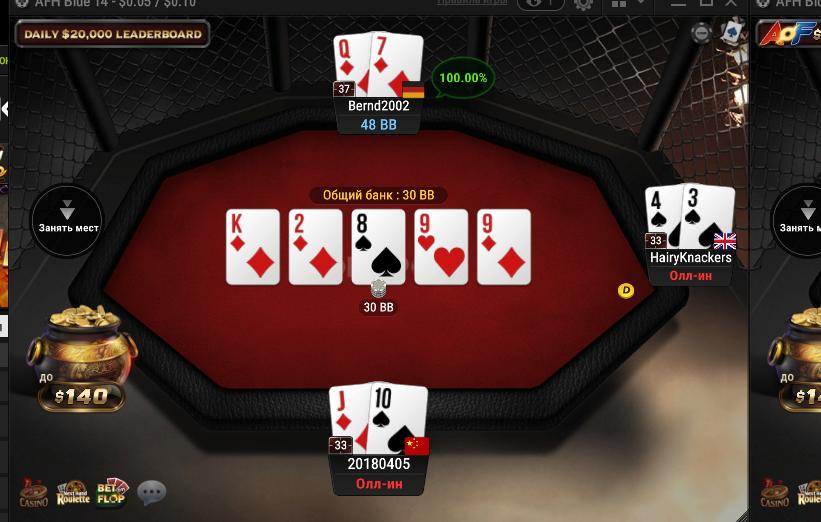10s: (369, 381, 428, 456)
2d: (289, 210, 344, 286)
3s: (682, 183, 736, 251)
4s: (644, 185, 682, 251)
7d: (370, 31, 422, 99)
8s: (352, 210, 405, 284)
9d: (477, 210, 530, 284)
9h: (415, 209, 467, 284)
Jd: (327, 381, 369, 458)
Kd: (226, 208, 279, 281)
Qd: (334, 34, 371, 99)
